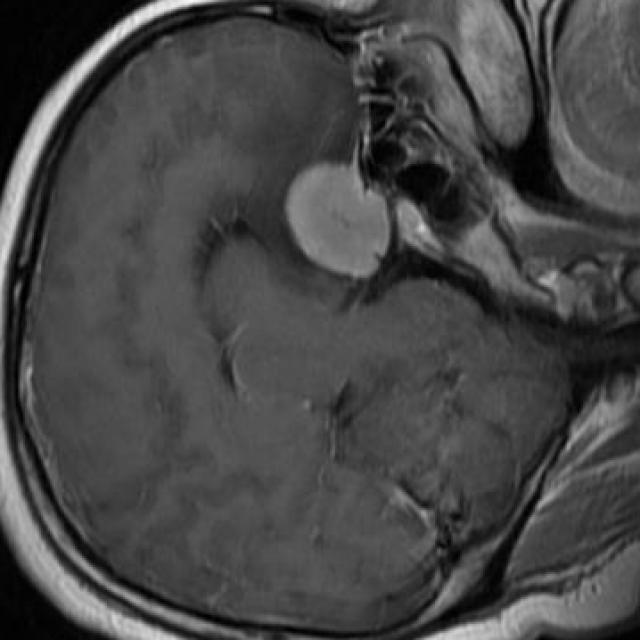meningioma: (291, 162, 389, 276)
